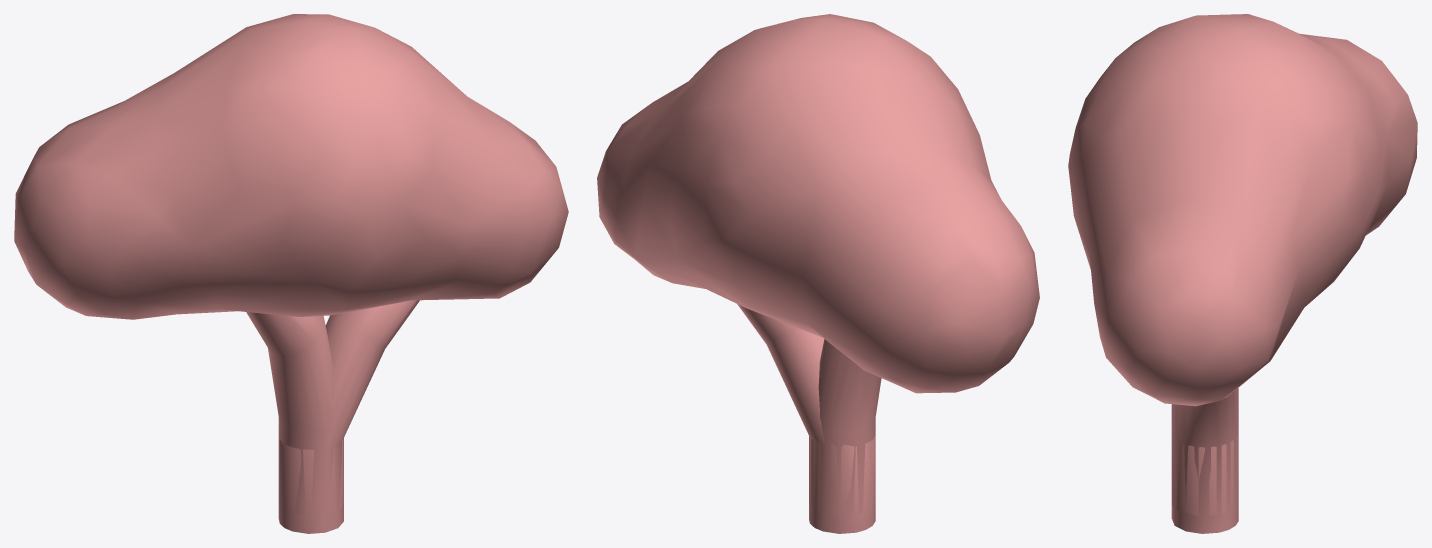
The model's file is tree-texture.gltf.
The picture shows the model from 3 angles, left to right: view 1: azimuth 30°, elevation 25°; view 2: azimuth 150°, elevation 25°; view 3: azimuth 270°, elevation 25°; orthographic projection. The views are drawn at different scales.
Parts seen in each view (by area): view 1: Metaball, trunk 1, trunk 2; view 2: Metaball, trunk 2, trunk 1; view 3: Metaball, trunk 2, trunk 1.
Part boxes in pixels (x1,y1,x2,y2): Metaball: [14, 14, 568, 319]; trunk 1: [246, 312, 343, 516]; trunk 2: [278, 300, 419, 533]; Metaball: [597, 14, 1039, 393]; trunk 2: [737, 304, 875, 533]; trunk 1: [809, 339, 881, 515]; Metaball: [1068, 14, 1417, 406]; trunk 2: [1171, 388, 1238, 533]; trunk 1: [1172, 435, 1237, 515].
Size of the model in its own units: 107 by 106 by 67.6.
